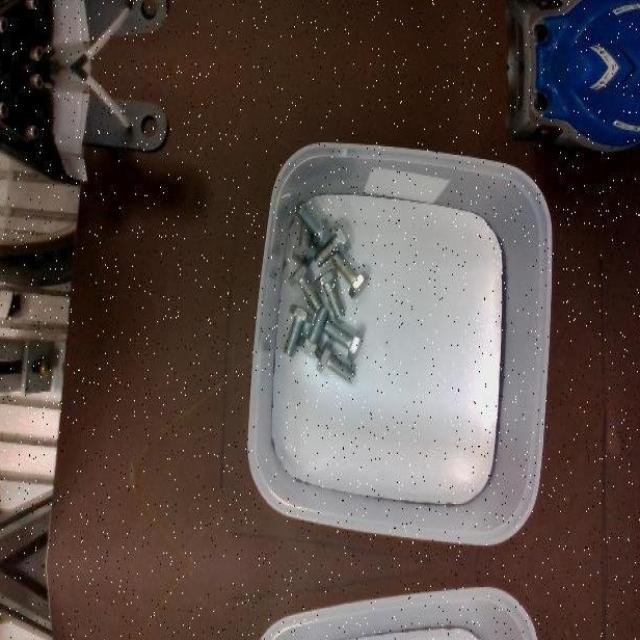screw: (331, 249, 369, 298), (288, 261, 323, 312), (294, 200, 331, 248), (323, 319, 364, 362), (314, 222, 351, 268), (316, 340, 355, 383), (297, 306, 329, 358), (314, 267, 345, 319), (282, 303, 312, 356)
